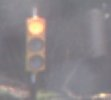Red: (16, 12, 52, 78)
